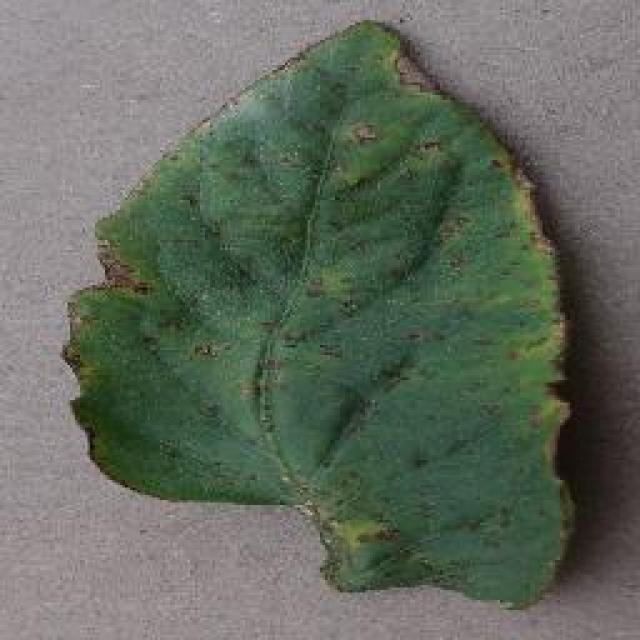Tomato bacterial spot leaf: (76, 19, 589, 616)
